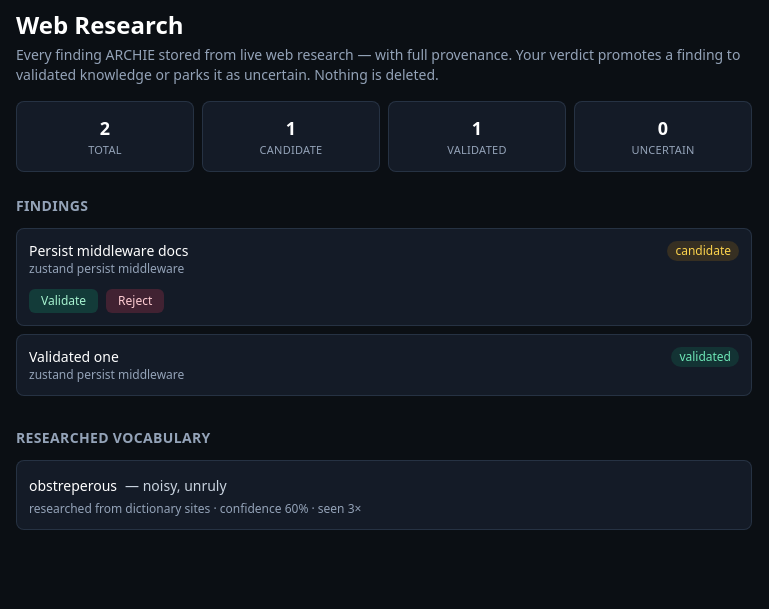
it: ArchieResearch — owner verdicts › surfaces a verdict failure honestly instead of pretending
Expected: the text "Persist middleware docs" is shown, [29,240,188,260]
Click the button "Validate": click(64, 300) [29,288,98,312]
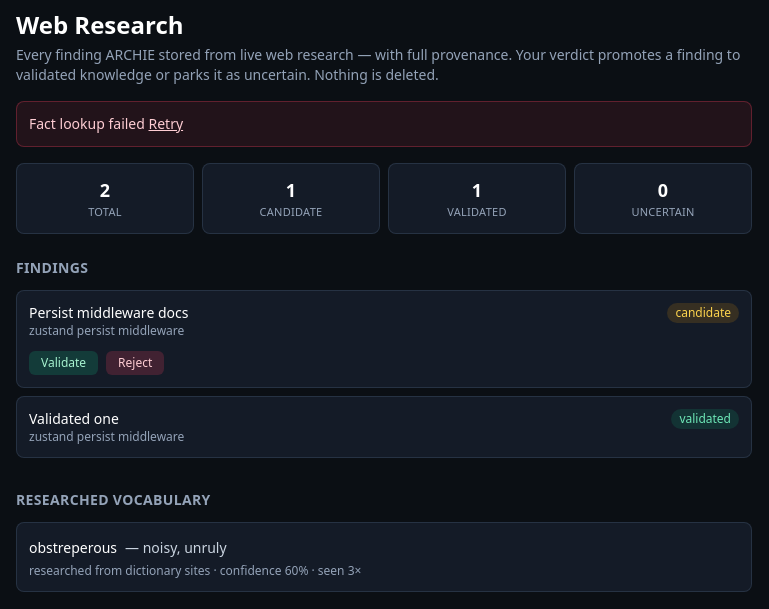
Result: the text "Fact lookup failed Retry" is shown at [16,101,752,147]
